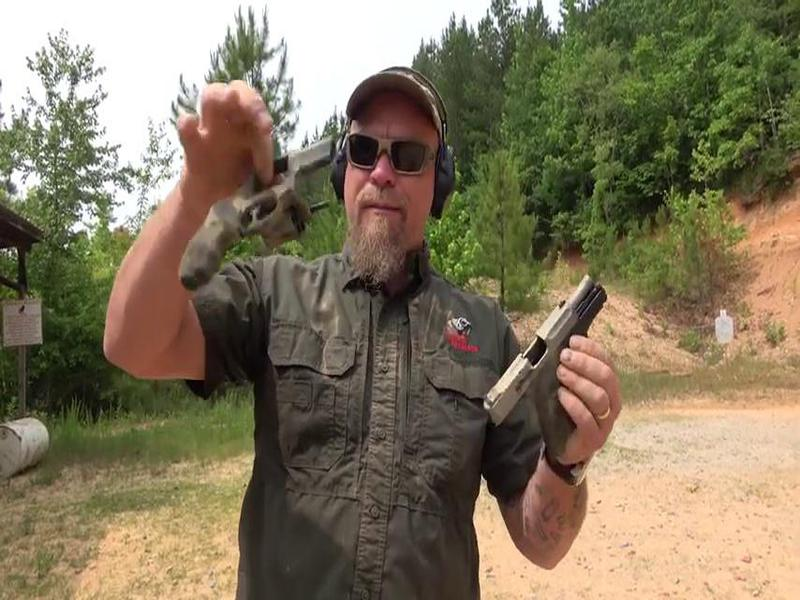Pistola: (471, 261, 635, 484)
Revolver: (141, 138, 346, 316)
